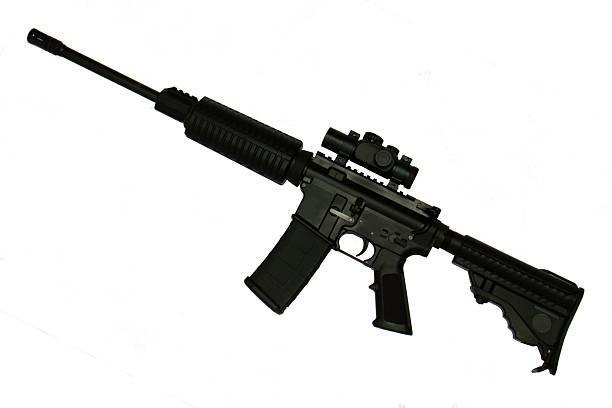larga: (27, 26, 586, 377)
